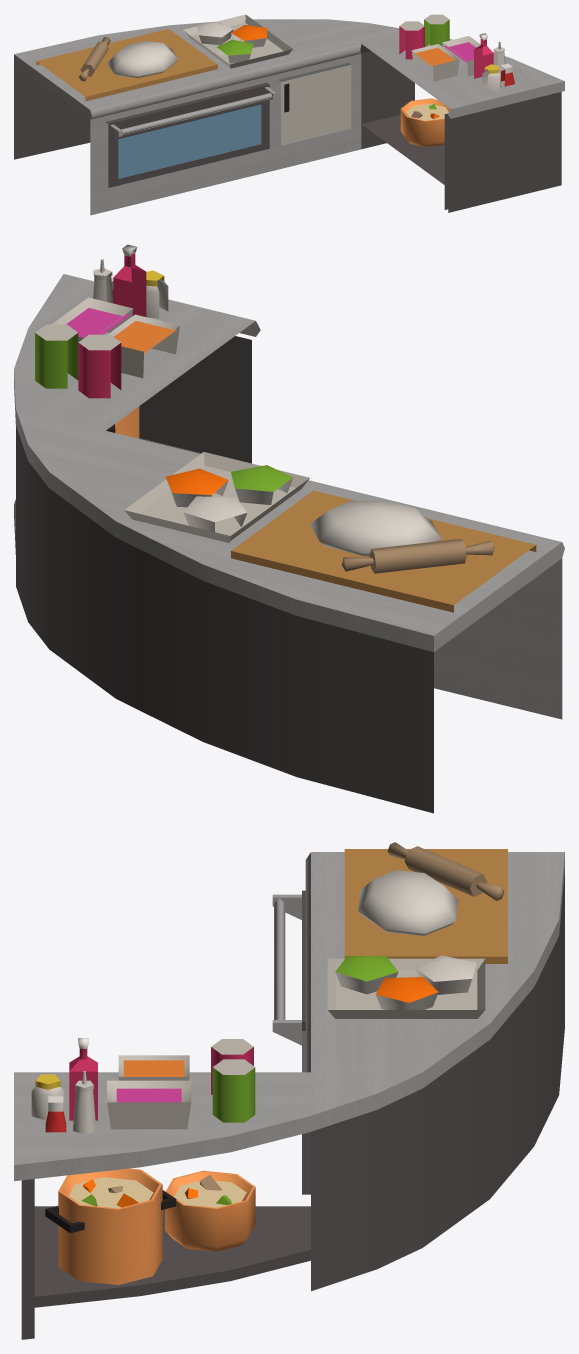
Rendered from interior_B_011.fbx.
3 renders of one model, top to bottom at view 1: azimuth 30°, elevation 25°; view 2: azimuth 150°, elevation 25°; view 3: azimuth 270°, elevation 25°, orthographic. The views are drawn at different scales.
Visible parts, largest first — view 1: interior_B_011; view 2: interior_B_011; view 3: interior_B_011.
Part boxes in pixels (<box>): interior_B_011: <box>14,14,564,215</box>; interior_B_011: <box>14,244,564,813</box>; interior_B_011: <box>14,842,564,1339</box>.
Size of the model in its own units: 280 by 105 by 208.
19 materials, 2 textured.
